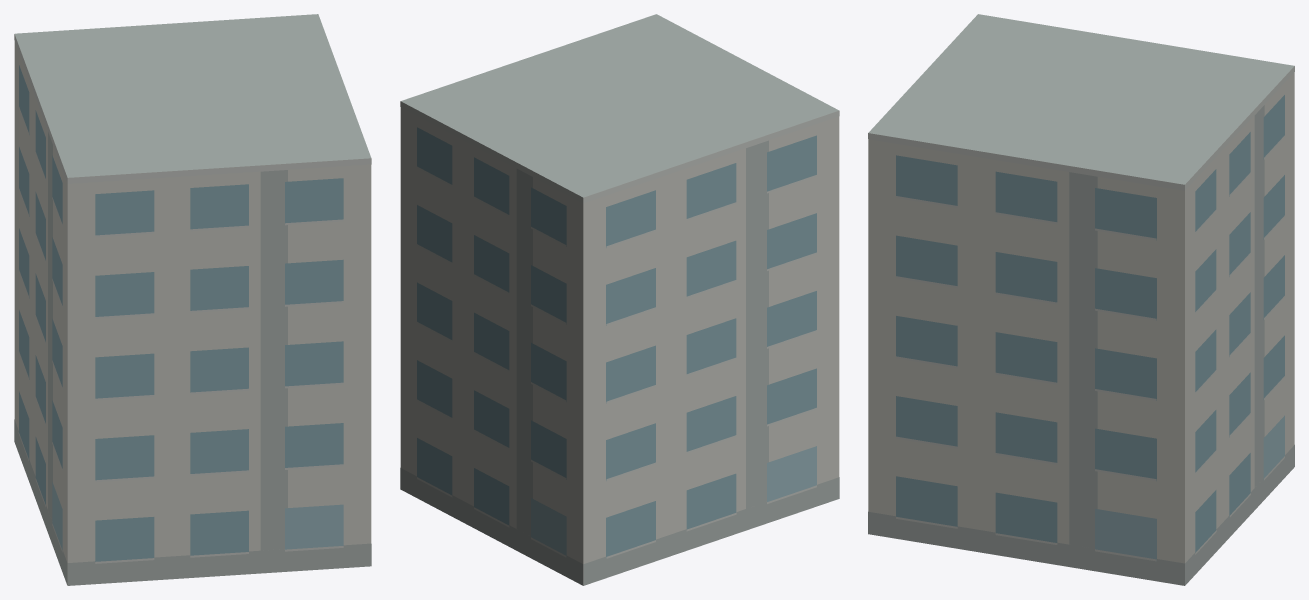
Rendered from survey-upis-32745870.glb.
The picture shows the model from 3 angles, left to right: view 1: azimuth 30°, elevation 25°; view 2: azimuth 150°, elevation 25°; view 3: azimuth 270°, elevation 25°; orthographic projection. The views are drawn at different scales.
Parts seen in each view (by area): view 1: survey-upis-32745870.tmp; view 2: survey-upis-32745870.tmp; view 3: survey-upis-32745870.tmp.
Part boxes in pixels (x1,y1,x2,y2): survey-upis-32745870.tmp: (14, 14, 371, 585); survey-upis-32745870.tmp: (400, 14, 839, 585); survey-upis-32745870.tmp: (868, 14, 1294, 585).
Bounding box in the file's own units: 14.53 × 15.9 × 15.34.
